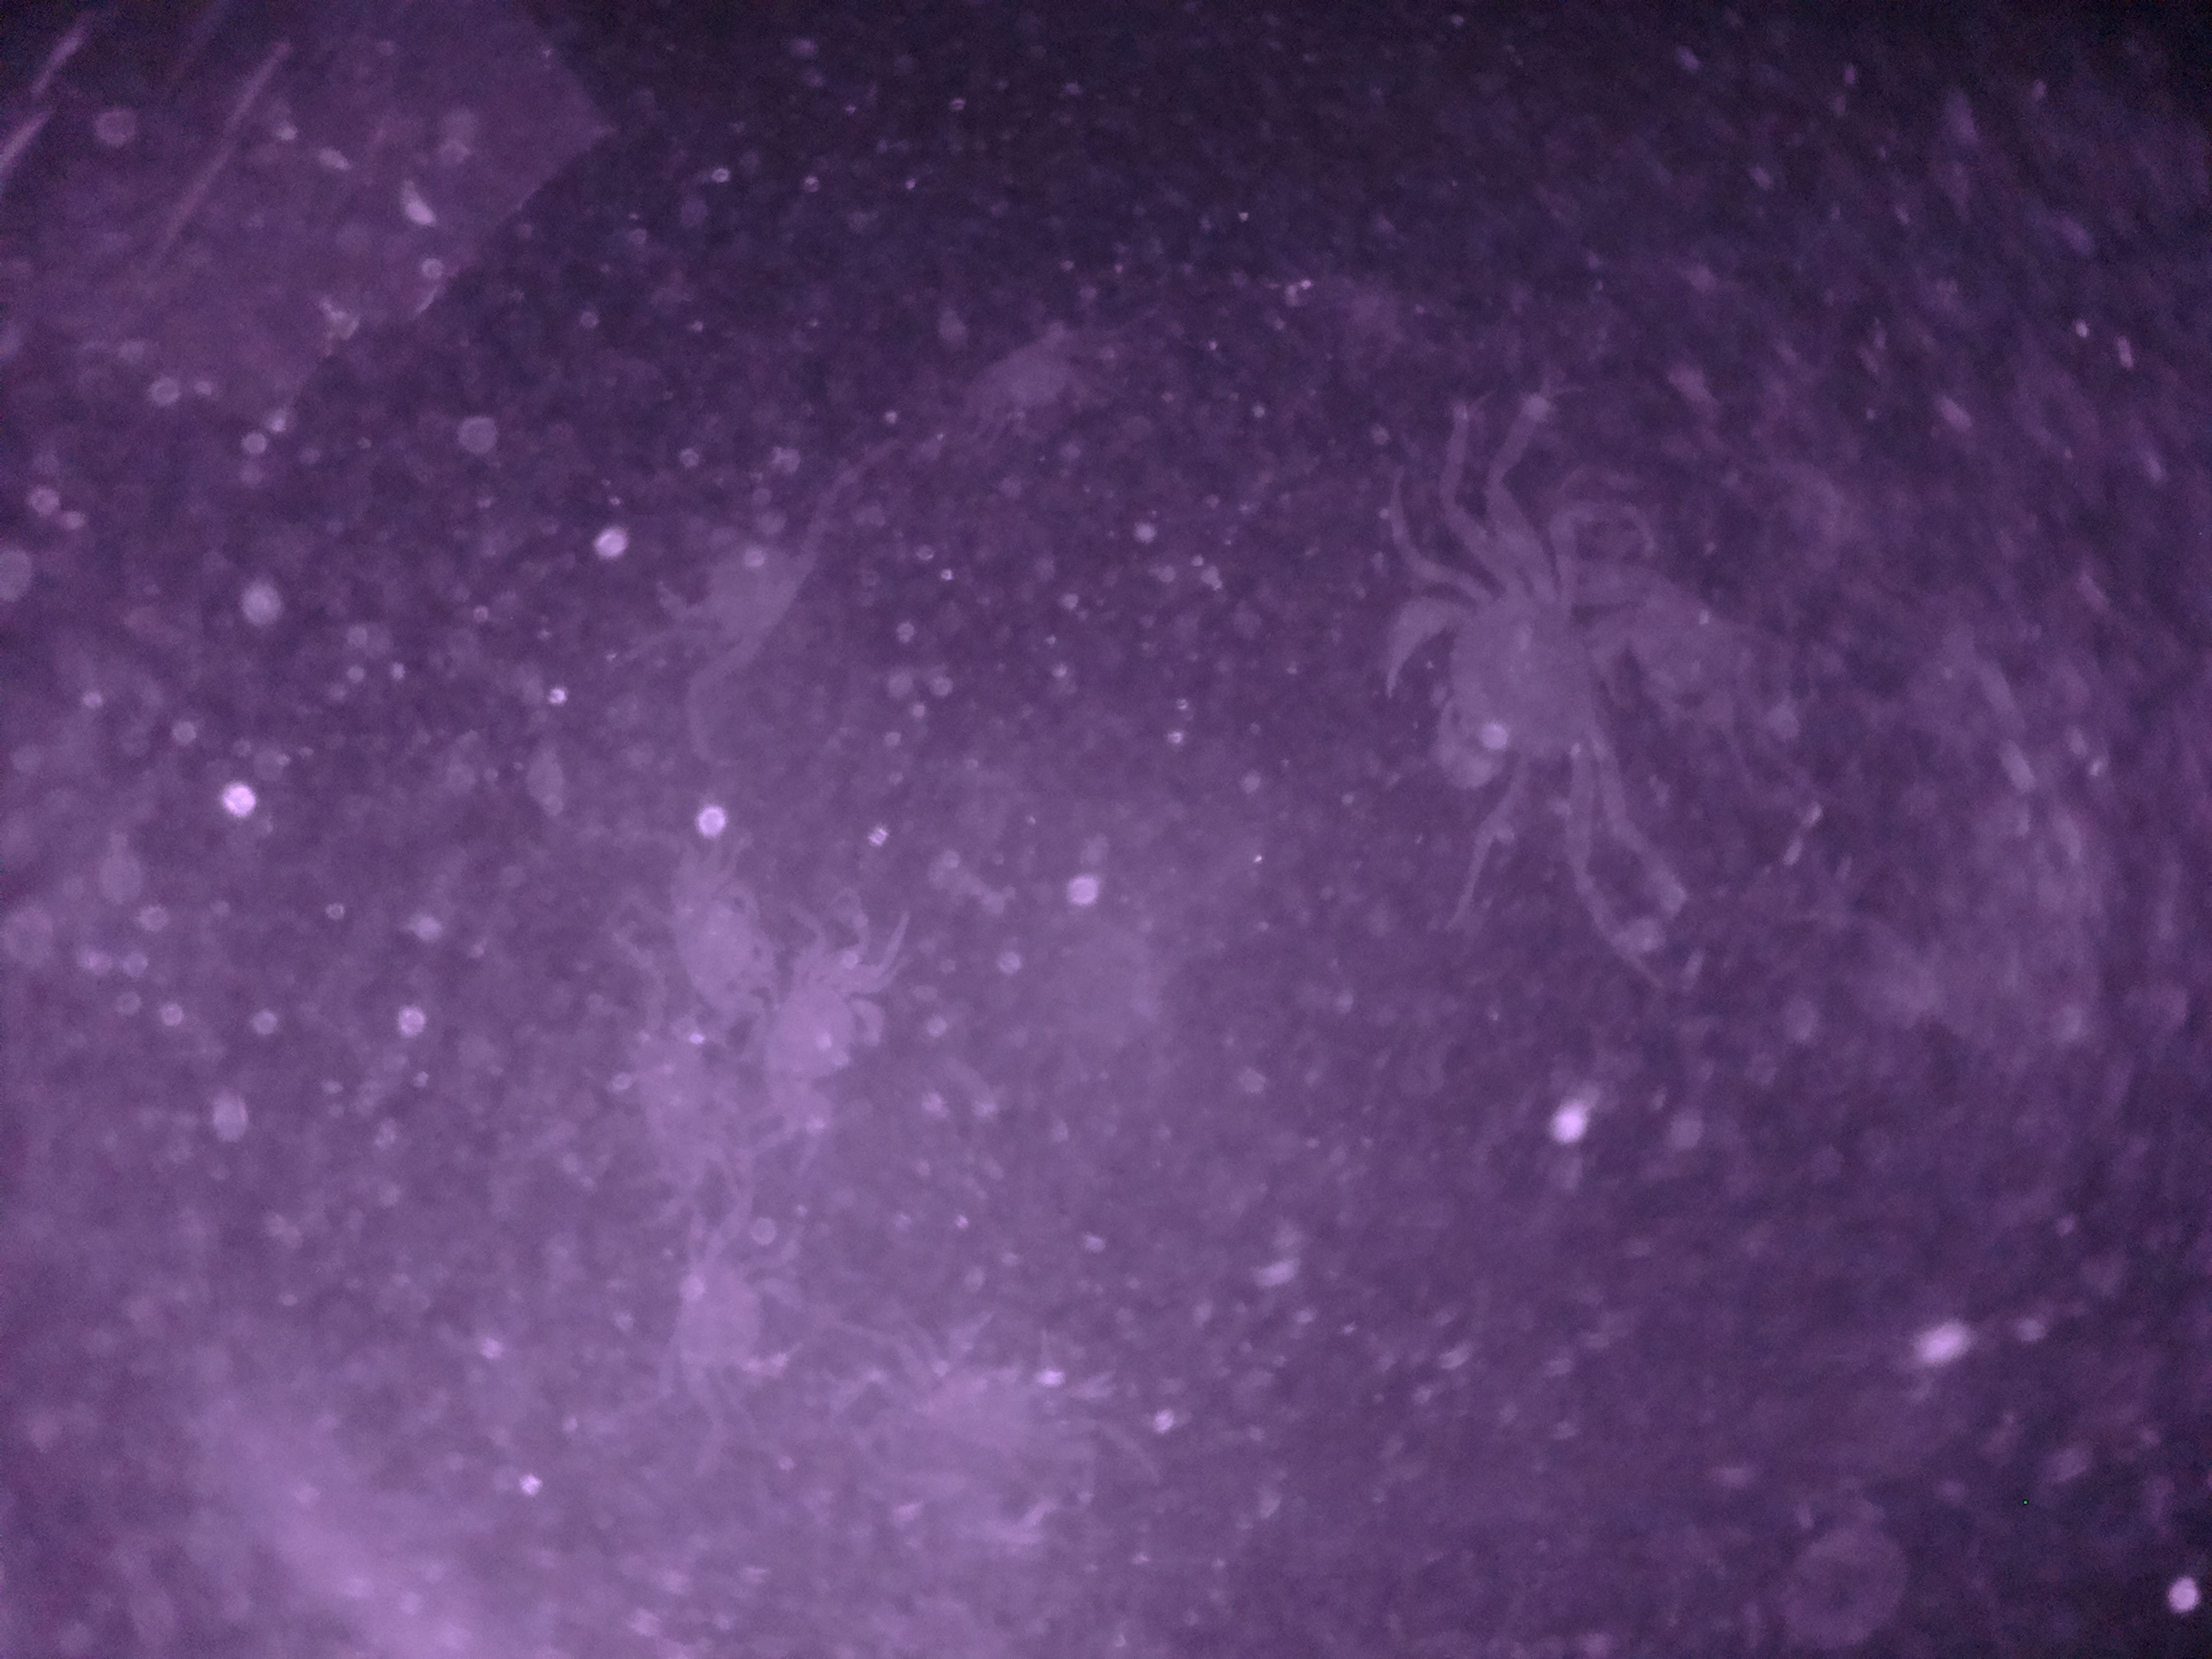Crab: (1369, 514, 1620, 819), (897, 1303, 1118, 1504), (744, 906, 906, 1141), (646, 1202, 819, 1419)
